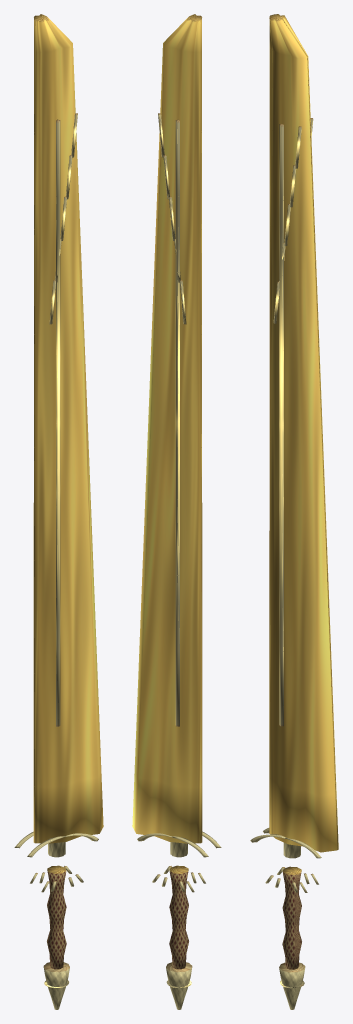
Rendered from sword_09_dawnbreaker_templar.glb.
3 views of the same model, side by side, from view 1: azimuth 30°, elevation 25°; view 2: azimuth 150°, elevation 25°; view 3: azimuth 330°, elevation 25° (orthographic).
Parts seen in each view (by area): view 1: Blade_TemplarDawn, Inlay_TemperLine, Grip_TemplarWrap, Pommel_SunRing, Emboss_DawnRays, Guard_SunArc, Mount_GuardSpokes, Core_SolarReliquary; view 2: Blade_TemplarDawn, Inlay_TemperLine, Grip_TemplarWrap, Pommel_SunRing, Emboss_DawnRays, Guard_SunArc, Mount_GuardSpokes, Core_SolarReliquary; view 3: Blade_TemplarDawn, Inlay_TemperLine, Grip_TemplarWrap, Pommel_SunRing, Emboss_DawnRays, Guard_SunArc, Mount_GuardSpokes, Core_SolarReliquary.
Part boxes in pixels (x1,y1,x2,y2): Blade_TemplarDawn: (33,14,103,843); Inlay_TemperLine: (56,119,60,726); Grip_TemplarWrap: (47,865,66,969); Pommel_SunRing: (43,962,69,1009); Emboss_DawnRays: (49,113,77,324); Guard_SunArc: (14,831,98,857); Mount_GuardSpokes: (30,866,83,892); Core_SolarReliquary: (48,842,65,857); Blade_TemplarDawn: (132,14,202,843); Inlay_TemperLine: (175,119,179,726); Grip_TemplarWrap: (169,865,188,969); Pommel_SunRing: (166,962,192,1009); Emboss_DawnRays: (158,113,186,324); Guard_SunArc: (137,831,221,857); Mount_GuardSpokes: (152,866,205,892); Core_SolarReliquary: (170,842,187,857); Blade_TemplarDawn: (269,14,338,852); Inlay_TemperLine: (279,124,283,726); Grip_TemplarWrap: (282,866,301,969); Pommel_SunRing: (279,962,305,1009); Emboss_DawnRays: (273,118,313,323); Guard_SunArc: (250,828,321,858); Mount_GuardSpokes: (265,867,318,892); Core_SolarReliquary: (283,842,300,858).
Bounding box in the file's own units: 0.2249 × 2.6 × 0.0749.
Materials: 1 (1 with a texture image).
